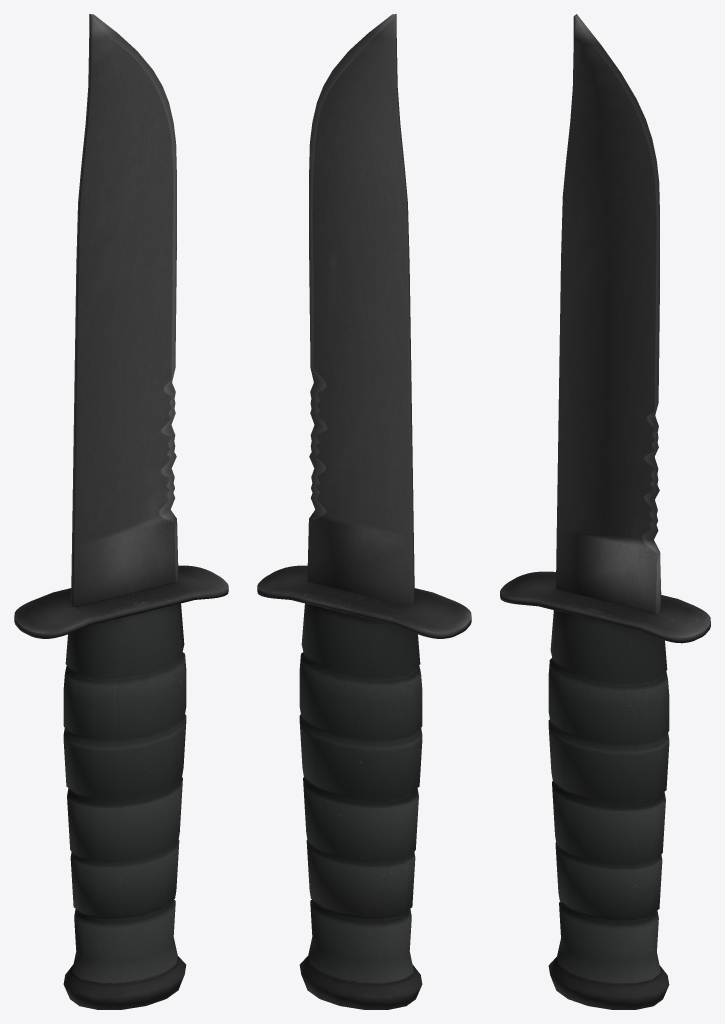
Rendered from knife.fbx.
3 renders of one model, left to right at view 1: azimuth 30°, elevation 25°; view 2: azimuth 150°, elevation 25°; view 3: azimuth 330°, elevation 25°, orthographic.
Parts seen in each view (by area): view 1: knife_low; view 2: knife_low; view 3: knife_low.
Part boxes in pixels (left/top/right/bottom): knife_low: left=14, top=14, right=228, bottom=1009; knife_low: left=257, top=14, right=471, bottom=1009; knife_low: left=500, top=14, right=710, bottom=1009.
Size of the model in its own units: 1.96 by 9.23 by 0.8067.
